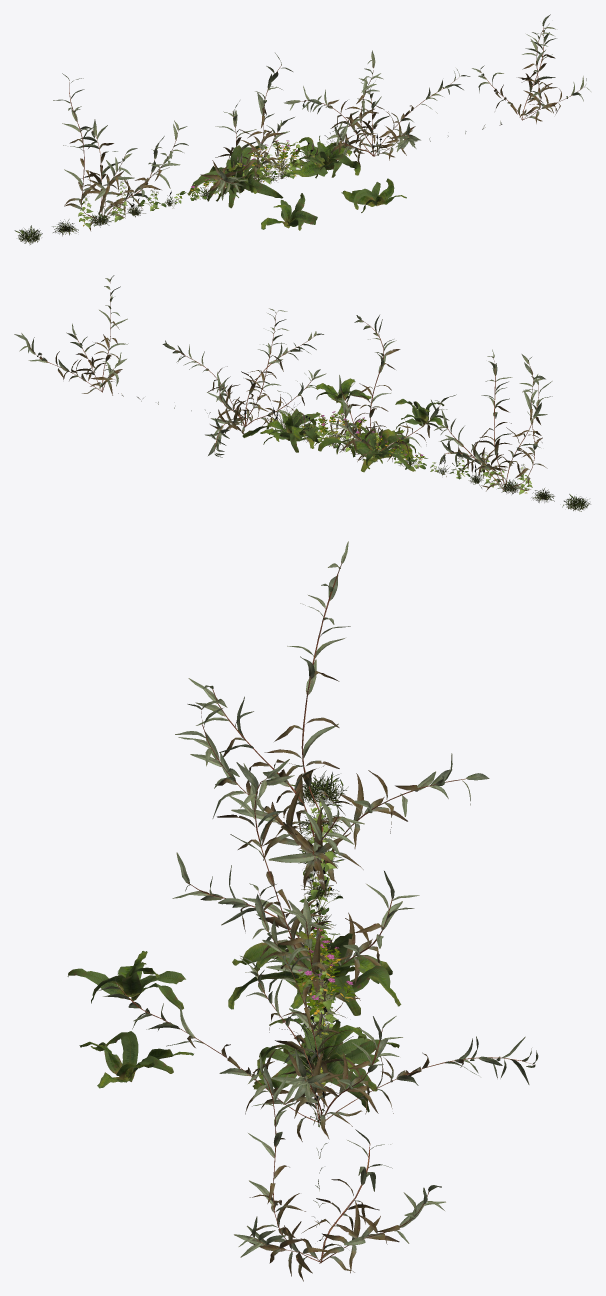
File: plants_q.glb
3 views of the same model, one above another, from view 1: azimuth 30°, elevation 25°; view 2: azimuth 150°, elevation 25°; view 3: azimuth 270°, elevation 25° (orthographic). The views are drawn at different scales.
Visible parts, largest first — view 1: shrub_02.001, fern_02.001, grass_medium_01.001, shrub_01.001, periwinkle_plant.001; view 2: shrub_02.001, fern_02.001, grass_medium_01.001, shrub_01.001, periwinkle_plant.001; view 3: shrub_02.001, fern_02.001, grass_medium_01.001, shrub_01.001, periwinkle_plant.001.
Part boxes in pixels (bbox=[...]): shrub_02.001: bbox=[53, 14, 590, 230]; fern_02.001: bbox=[188, 136, 406, 230]; grass_medium_01.001: bbox=[14, 121, 502, 244]; shrub_01.001: bbox=[78, 142, 301, 228]; periwinkle_plant.001: bbox=[190, 140, 299, 194]; shrub_02.001: bbox=[14, 275, 552, 491]; fern_02.001: bbox=[242, 378, 446, 472]; grass_medium_01.001: bbox=[118, 393, 590, 511]; shrub_01.001: bbox=[312, 413, 532, 494]; periwinkle_plant.001: bbox=[319, 411, 424, 466]; shrub_02.001: bbox=[98, 541, 538, 1281]; fern_02.001: bbox=[67, 931, 401, 1112]; grass_medium_01.001: bbox=[290, 770, 348, 1241]; shrub_01.001: bbox=[303, 790, 337, 1034]; periwinkle_plant.001: bbox=[295, 923, 355, 1025].
Bounding box in the file's own units: 6.51 × 1.71 × 2.43.
10 materials, 10 textured.
